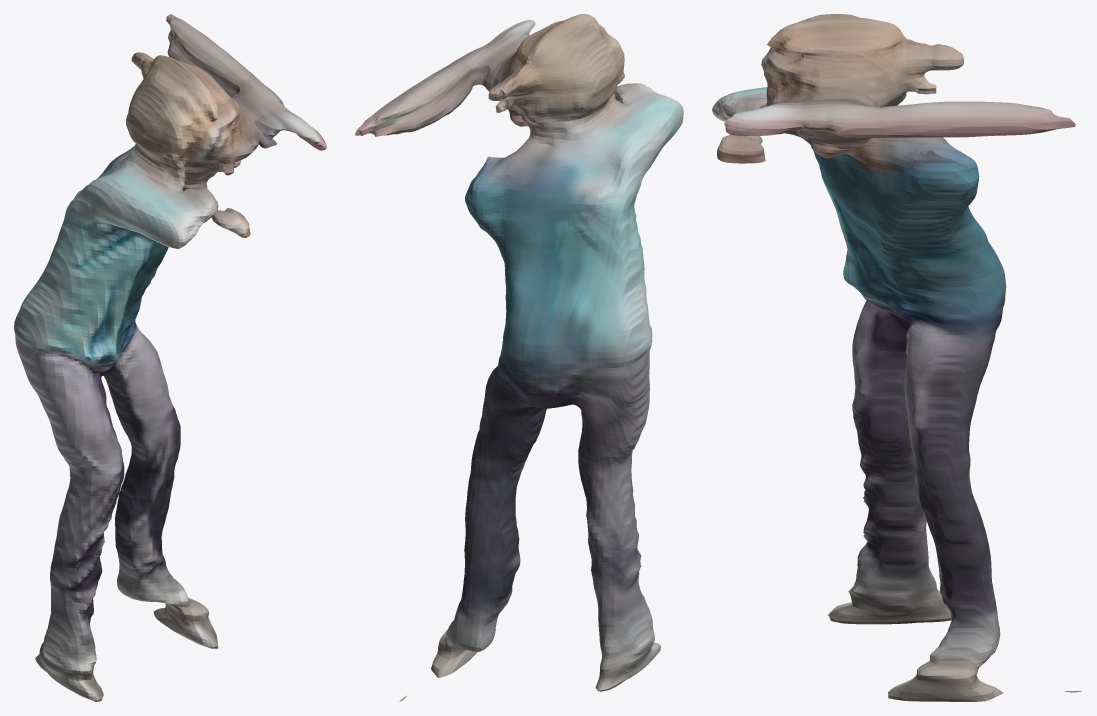
File: 0088_tex.glb
The picture shows the model from 3 angles, left to right: view 1: azimuth 30°, elevation 25°; view 2: azimuth 150°, elevation 25°; view 3: azimuth 270°, elevation 25°; orthographic projection. The views are drawn at different scales.
Visible parts, largest first — view 1: 0088_tex.obj; view 2: 0088_tex.obj; view 3: 0088_tex.obj.
Boxes of the visible parts, <box> form: 0088_tex.obj: <box>14,14,326,701</box>; 0088_tex.obj: <box>355,14,683,701</box>; 0088_tex.obj: <box>712,14,1081,701</box>.
Bounding box in the file's own units: 0.3334 × 0.8745 × 0.4505.
